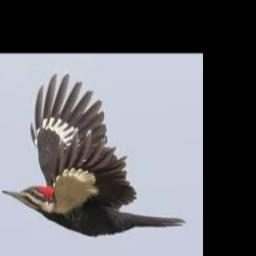Woodpecker: (1, 73, 186, 235)
